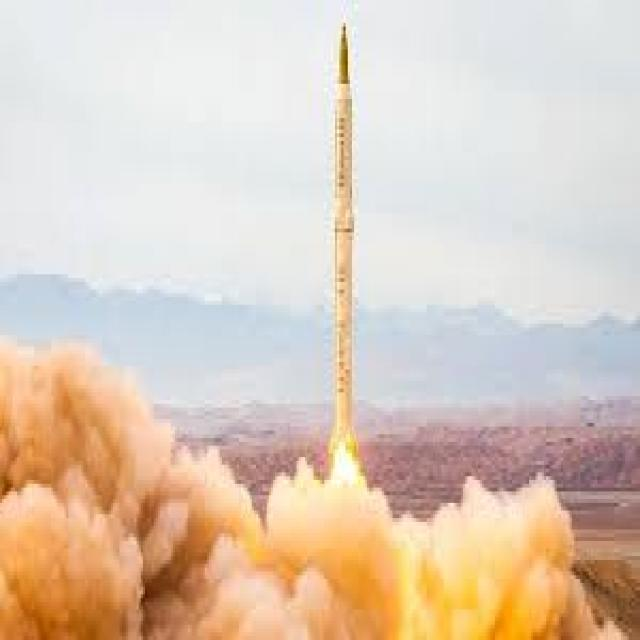Missile: (329, 13, 361, 466)
